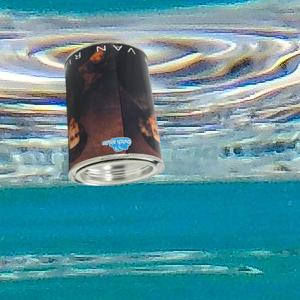can: (64, 42, 163, 187)
